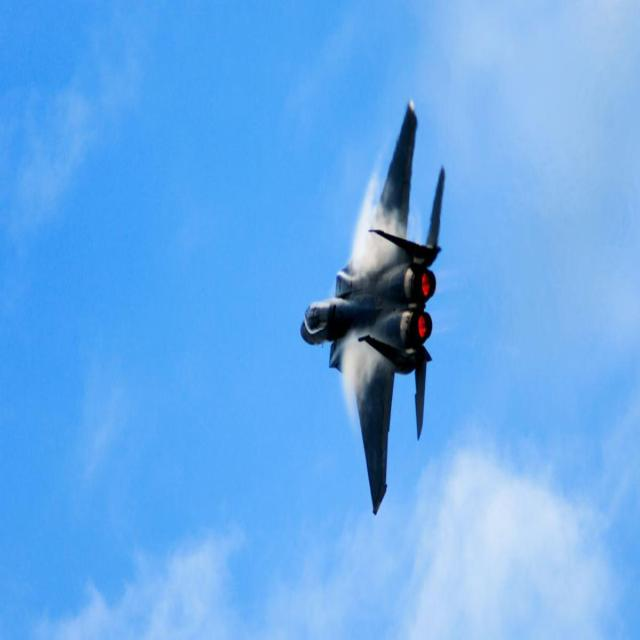MIL_Plane: (300, 101, 445, 516)
